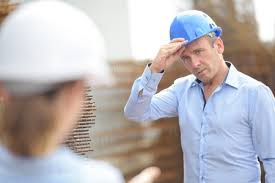Person_wearing_helmet: (166, 4, 222, 59)
